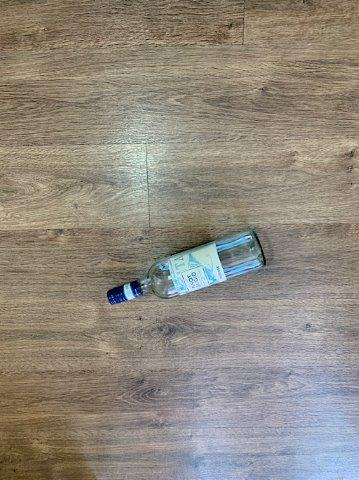botolkaca: (108, 231, 267, 305)
